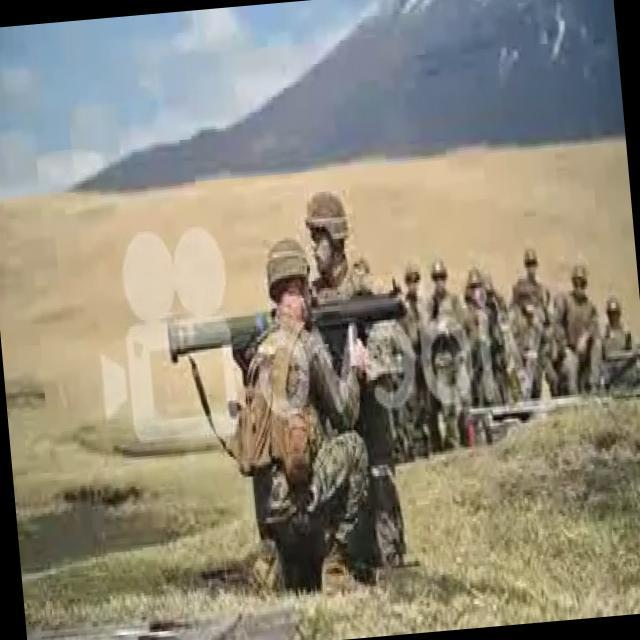rocket: (167, 288, 414, 362)
